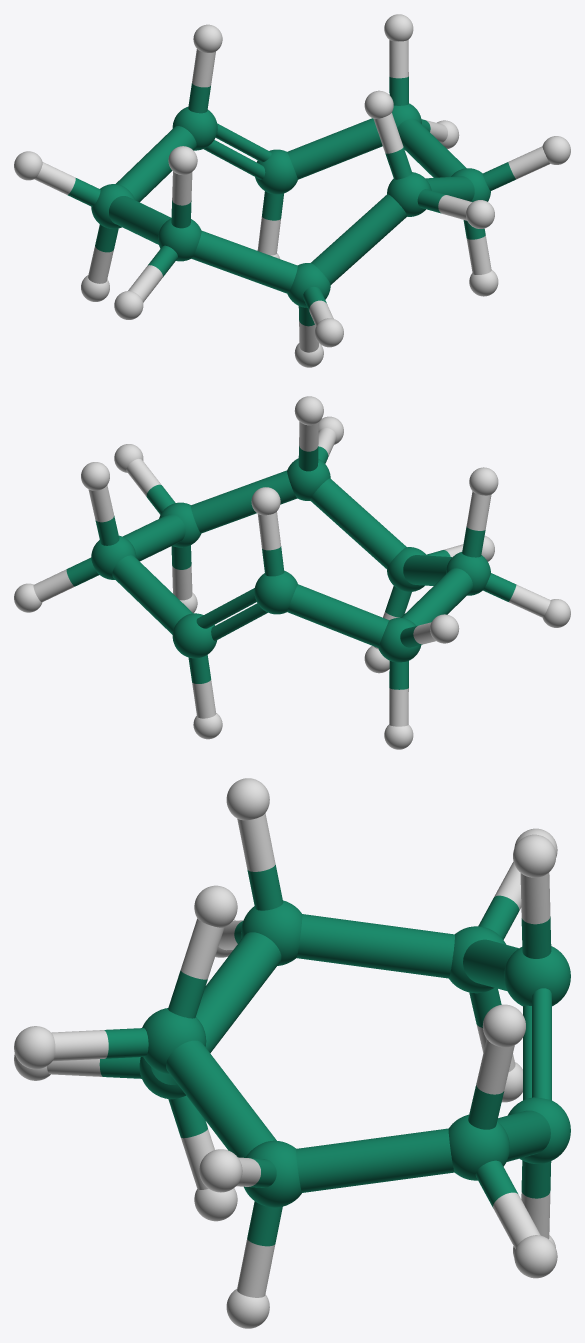
The model's file is TRANSCYCLOOCTENE.MOL2.glb.
The picture shows the model from 3 angles, top to bottom: view 1: azimuth 30°, elevation 25°; view 2: azimuth 150°, elevation 25°; view 3: azimuth 270°, elevation 25°; orthographic projection. The views are drawn at different scales.
Bounding box in the file's own units: 5.91 × 3.29 × 4.24.
